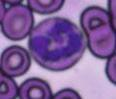N: (28, 17, 85, 71)
